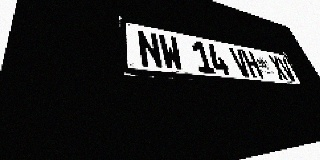1: (189, 40, 216, 74)
4: (205, 43, 231, 75)
H: (241, 50, 264, 78)
N: (136, 29, 164, 69)
V: (228, 47, 253, 77), (276, 56, 298, 81)
W: (157, 33, 185, 71)
X: (267, 55, 289, 81)
